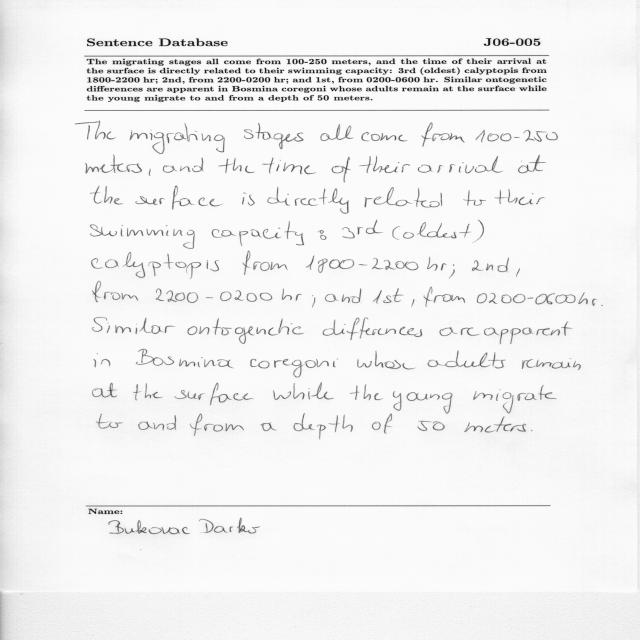word: (92, 252, 219, 279), (188, 318, 305, 344), (129, 123, 225, 154), (91, 224, 195, 249), (474, 385, 557, 413), (212, 221, 304, 246), (323, 317, 422, 340), (267, 187, 349, 214), (484, 321, 573, 344), (306, 255, 418, 273), (135, 186, 222, 209), (136, 349, 234, 368), (156, 288, 272, 303), (175, 383, 254, 405), (250, 359, 338, 378), (365, 187, 442, 208), (244, 123, 304, 149), (293, 414, 353, 440), (418, 156, 503, 173), (93, 317, 176, 334), (428, 351, 506, 369), (393, 391, 453, 414), (190, 414, 244, 436), (403, 222, 471, 239), (357, 351, 416, 370), (421, 122, 465, 147), (477, 293, 576, 304), (243, 251, 288, 275), (464, 416, 526, 433), (273, 383, 334, 400), (85, 155, 142, 173), (476, 130, 558, 142), (93, 282, 139, 303), (262, 158, 316, 175), (360, 156, 410, 173), (424, 287, 466, 307), (494, 189, 545, 205), (76, 121, 117, 139), (342, 221, 383, 239), (522, 359, 581, 371), (91, 186, 123, 205), (163, 158, 203, 173), (218, 158, 255, 174), (138, 415, 176, 430), (321, 124, 354, 141), (472, 258, 509, 273), (349, 385, 383, 401), (325, 289, 361, 304), (133, 383, 163, 400), (518, 155, 546, 173), (331, 157, 351, 182), (373, 289, 403, 304), (361, 132, 408, 141), (96, 414, 123, 429), (372, 414, 392, 434), (93, 383, 118, 398), (439, 327, 480, 336), (463, 190, 486, 206), (427, 257, 447, 271), (417, 421, 445, 431), (578, 292, 597, 306), (473, 220, 484, 243), (282, 289, 302, 301), (94, 353, 110, 367), (242, 193, 255, 206), (261, 423, 277, 431), (392, 226, 400, 240), (318, 230, 327, 240), (449, 264, 455, 279), (312, 295, 315, 308), (516, 268, 520, 277), (412, 299, 415, 307), (149, 169, 151, 176), (601, 305, 603, 306), (531, 430, 532, 431)
